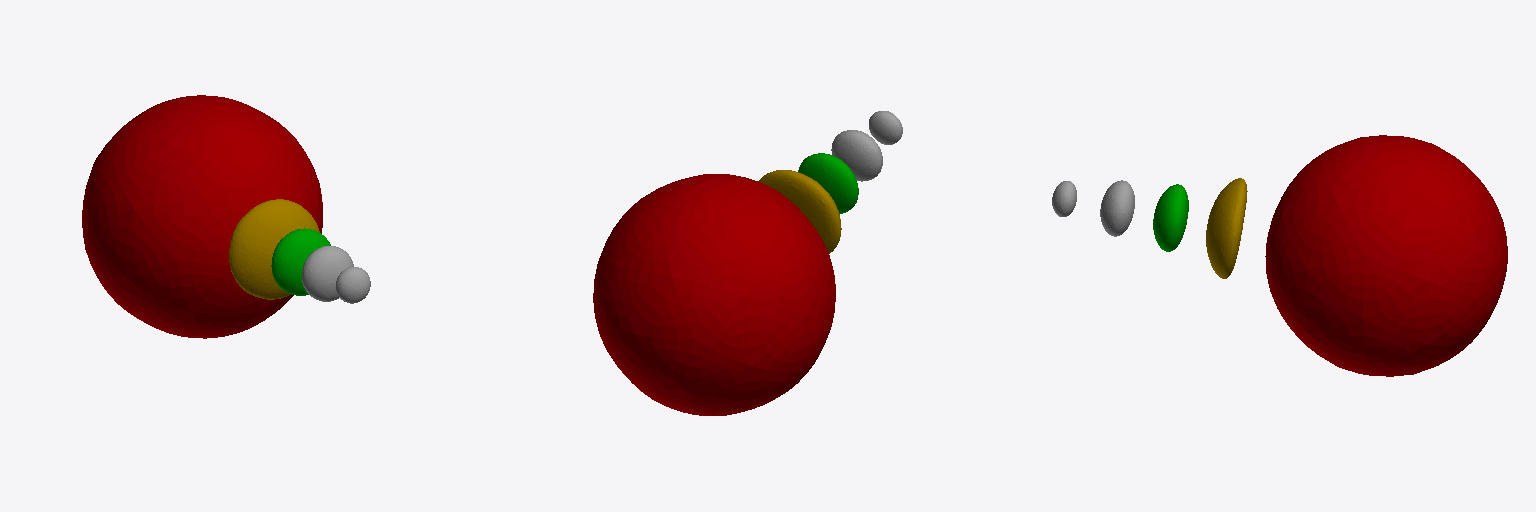
Rendered from sphere_hierarchy.obj.
3 views of the same model, side by side, from view 1: azimuth 30°, elevation 25°; view 2: azimuth 150°, elevation 25°; view 3: azimuth 270°, elevation 25° (orthographic).
Visible parts, largest first — view 1: Red_Icosphere.001_Icosphere.002, Red_Icosphere.002_Icosphere.003, Red_Icosphere.003_Icosphere.004, Red_Icosphere.004_Icosphere.005, Red_Icosphere_Icosphere; view 2: Red_Icosphere.001_Icosphere.002, Red_Icosphere.002_Icosphere.003, Red_Icosphere.003_Icosphere.004, Red_Icosphere.004_Icosphere.005, Red_Icosphere_Icosphere; view 3: Red_Icosphere.001_Icosphere.002, Red_Icosphere.002_Icosphere.003, Red_Icosphere.003_Icosphere.004, Red_Icosphere.004_Icosphere.005, Red_Icosphere_Icosphere.
Part boxes in pixels (x1,y1,x2,y2): Red_Icosphere.001_Icosphere.002: (82,95,322,338); Red_Icosphere.002_Icosphere.003: (229,199,319,299); Red_Icosphere.003_Icosphere.004: (271,228,330,295); Red_Icosphere.004_Icosphere.005: (302,246,353,301); Red_Icosphere_Icosphere: (336,267,370,303); Red_Icosphere.001_Icosphere.002: (593,174,835,415); Red_Icosphere.002_Icosphere.003: (758,170,841,253); Red_Icosphere.003_Icosphere.004: (798,153,858,213); Red_Icosphere.004_Icosphere.005: (831,130,882,181); Red_Icosphere_Icosphere: (869,111,902,144); Red_Icosphere.001_Icosphere.002: (1265,135,1507,376); Red_Icosphere.002_Icosphere.003: (1206,178,1247,278); Red_Icosphere.003_Icosphere.004: (1153,184,1188,251); Red_Icosphere.004_Icosphere.005: (1100,180,1134,236); Red_Icosphere_Icosphere: (1052,181,1076,216).
Bounding box in the file's own units: 6.67 × 6.68 × 12.61.